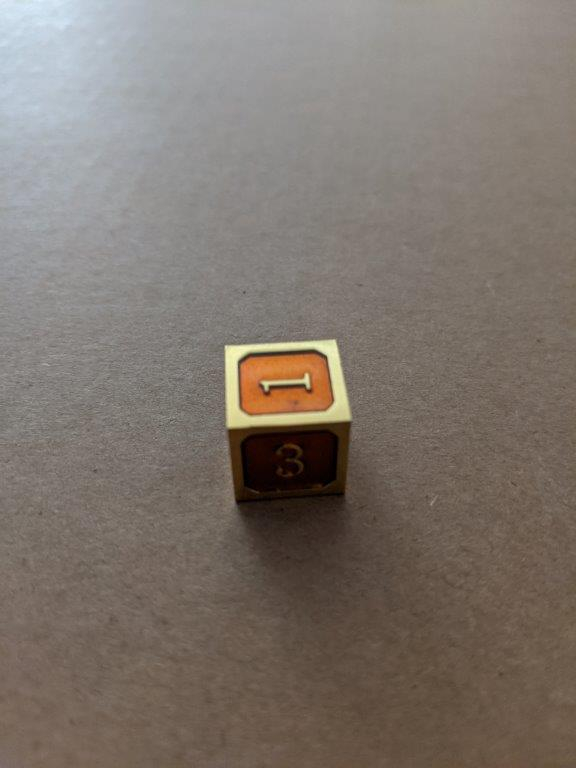d6-1: (224, 338, 353, 498)
